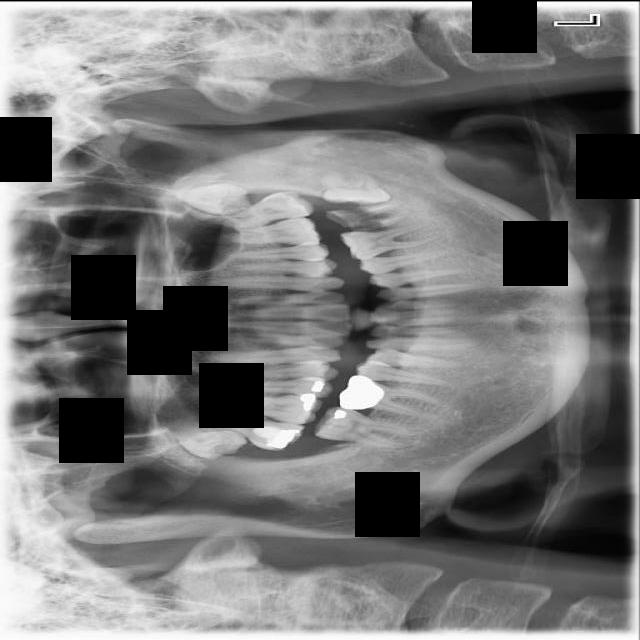3M ESPE Implant: (158, 408, 250, 470)
52: (244, 414, 306, 454), (313, 404, 367, 442), (269, 392, 324, 426), (326, 204, 382, 237), (339, 374, 389, 408), (289, 374, 333, 399), (276, 190, 297, 203)
73: (361, 195, 408, 217), (380, 206, 414, 228), (530, 30, 548, 36)
BioHorizons Implant: (189, 184, 314, 240)
BioLife Implant: (167, 181, 251, 217)
Biomet 3i Implant: (320, 169, 390, 205)
Blue Sky Bio Implant: (325, 197, 414, 239)
Caries: (183, 402, 305, 456)
Implant: (312, 401, 427, 455)
